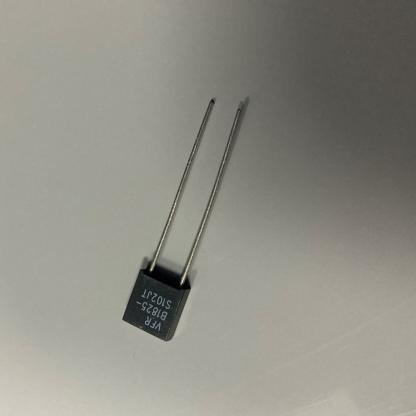SP0000007: (82, 43, 282, 363)
